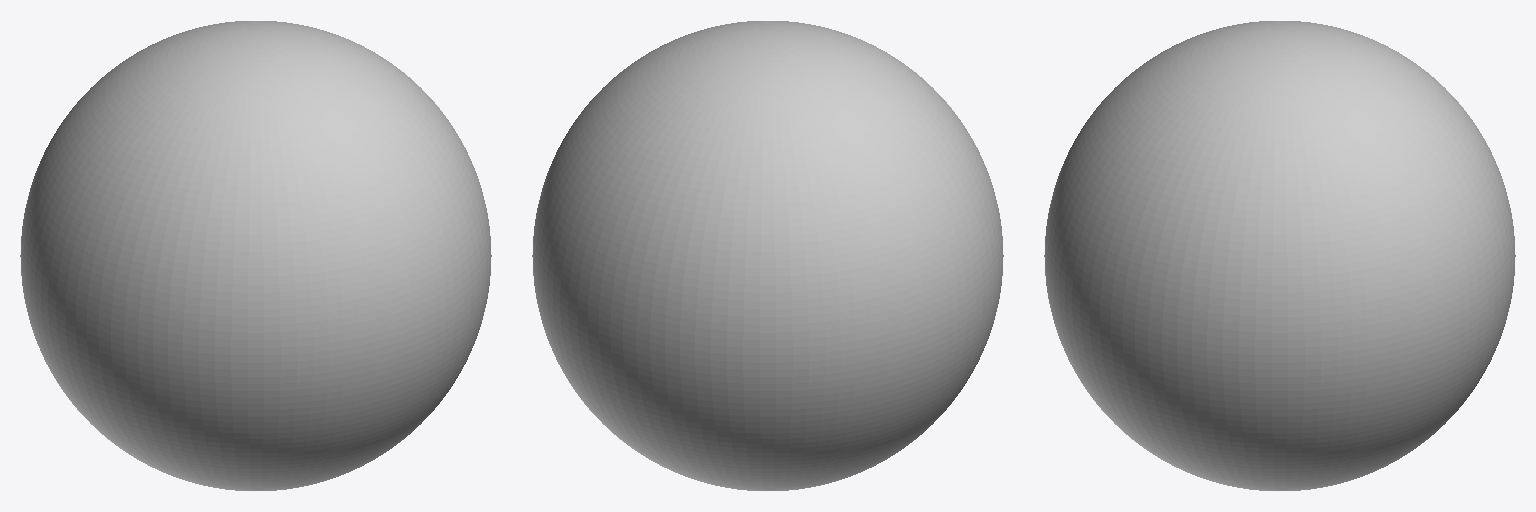
File: scenesphere.obj
3 views of the same model, side by side, from view 1: azimuth 30°, elevation 25°; view 2: azimuth 150°, elevation 25°; view 3: azimuth 270°, elevation 25° (orthographic).
Parts seen in each view (by area): view 1: Sphere; view 2: Sphere; view 3: Sphere.
Boxes of the visible parts, x1,y1,x2,y2 form: Sphere: [20, 21, 491, 490]; Sphere: [532, 21, 1003, 490]; Sphere: [1044, 21, 1515, 490].
Size of the model in its own units: 39.98 by 40 by 40.